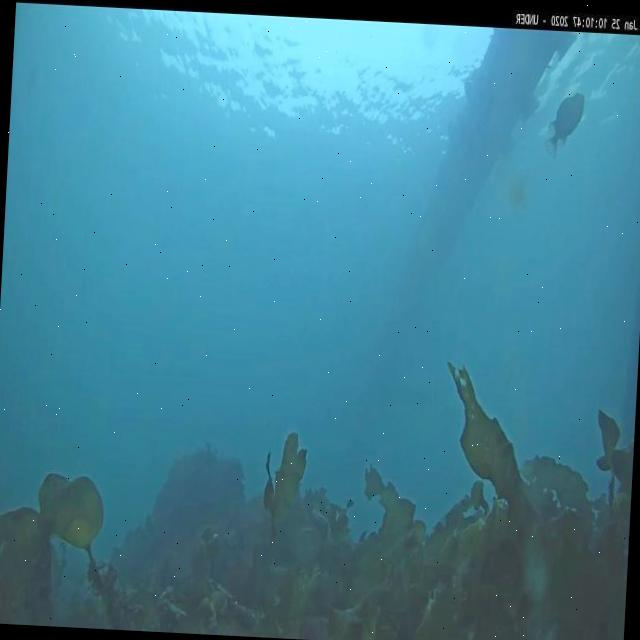fish: (542, 90, 586, 158)
